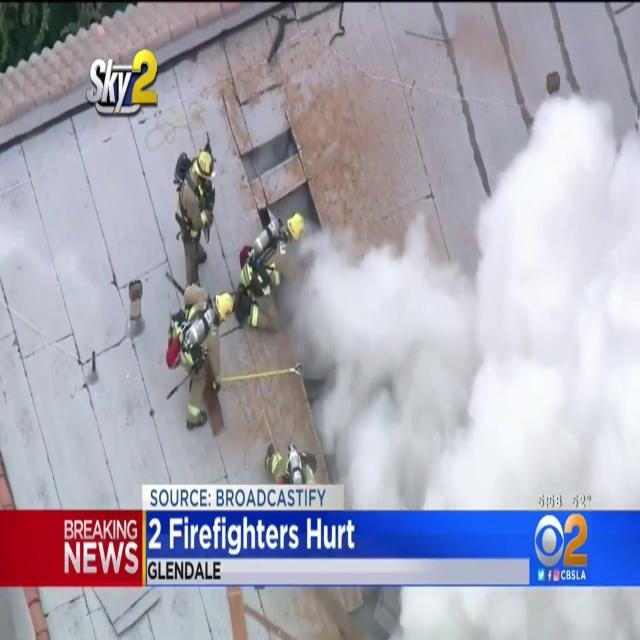Smoke: (289, 152, 636, 500)
